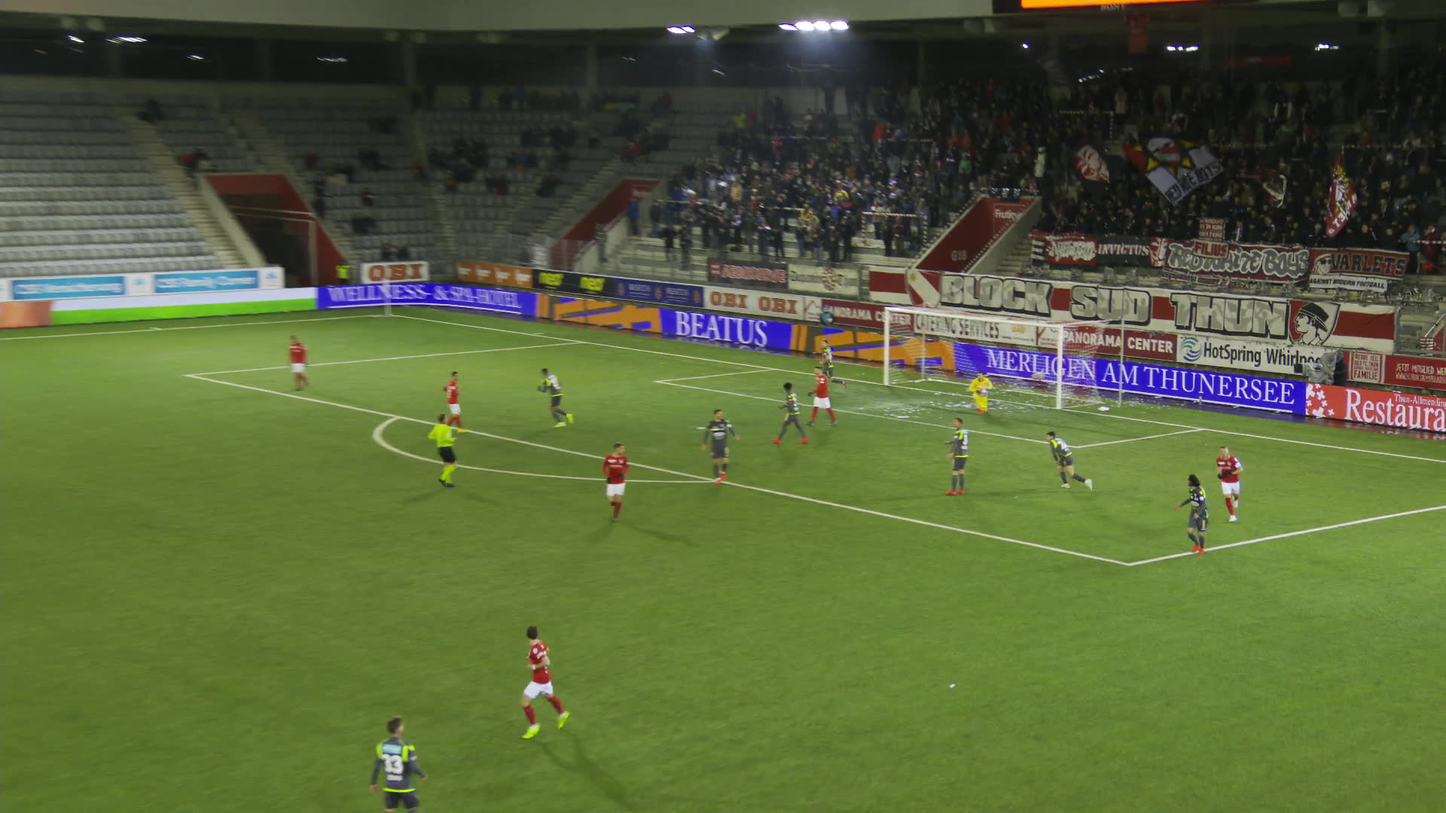ball: (978, 388, 986, 398)
player: (511, 627, 574, 742), (364, 714, 424, 812), (694, 408, 737, 483), (1172, 473, 1209, 556), (1045, 431, 1091, 491), (597, 440, 627, 522), (532, 365, 569, 428), (1213, 446, 1243, 522), (770, 381, 805, 443), (941, 416, 966, 495), (804, 364, 835, 427), (279, 333, 306, 392), (438, 370, 462, 432), (816, 339, 844, 391), (964, 370, 990, 414)
referee: (426, 413, 458, 489)
